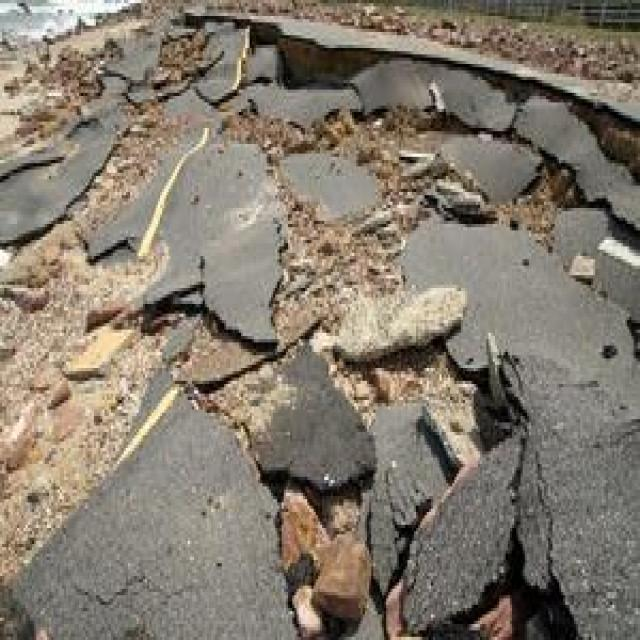road collapse: (34, 13, 640, 640)
